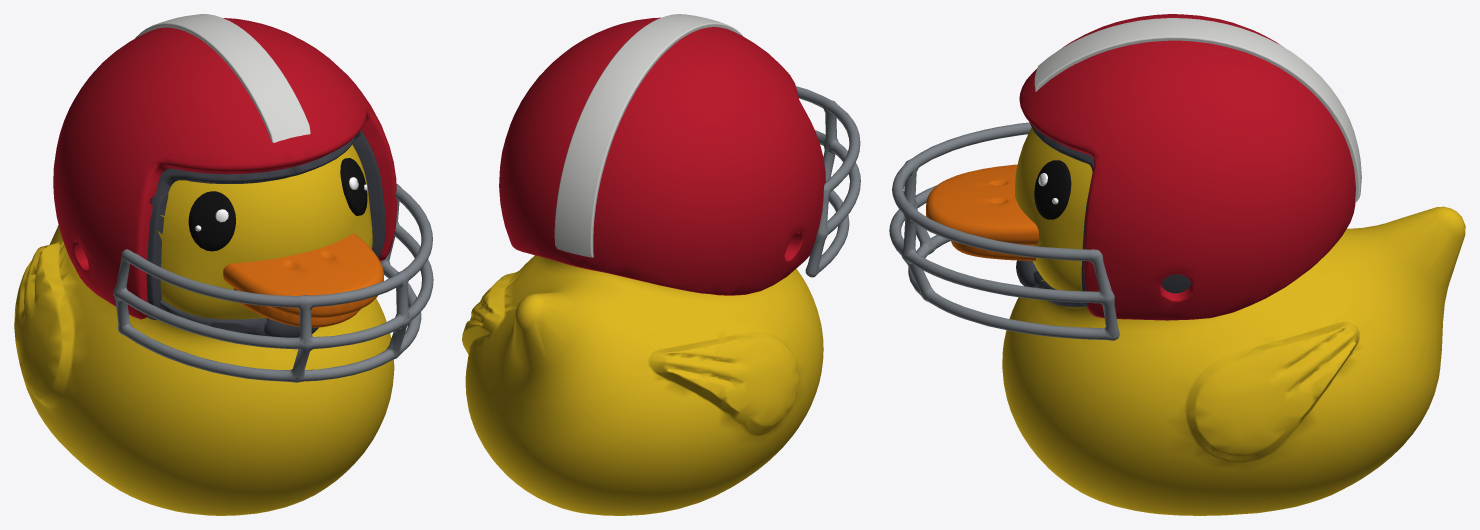
The model's file is duck_office.glb.
3 views of the same model, side by side, from view 1: azimuth 30°, elevation 25°; view 2: azimuth 150°, elevation 25°; view 3: azimuth 270°, elevation 25° (orthographic). The views are drawn at different scales.
Parts seen in each view (by area): view 1: duck_office; view 2: duck_office; view 3: duck_office.
Part boxes in pixels (x1,y1,x2,y2): duck_office: [14, 14, 433, 515]; duck_office: [462, 14, 860, 515]; duck_office: [889, 14, 1465, 515].
Size of the model in its own units: 0.1382 by 0.1872 by 0.2156.
